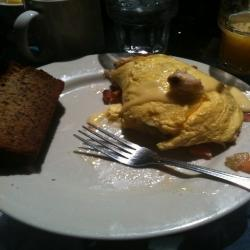bread: (1, 58, 74, 168)
omelette: (100, 51, 247, 162)
